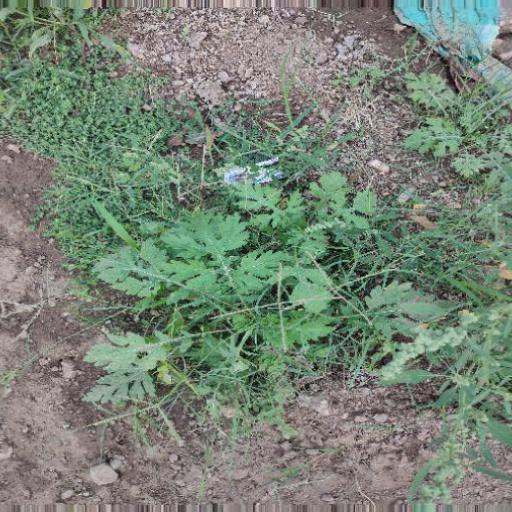weed: (94, 173, 411, 418), (25, 14, 166, 150), (395, 65, 512, 185)
